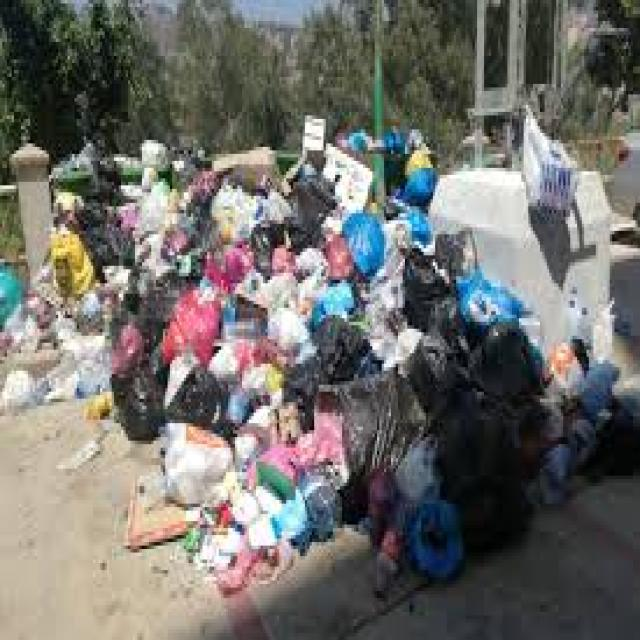garbage: (0, 140, 640, 584)
